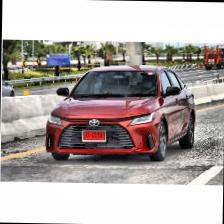NON-EV: (44, 64, 197, 166)
